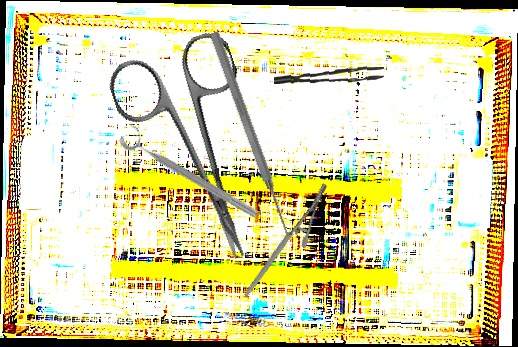Fixation Ring: (116, 121, 266, 223)
Iris Scissors: (102, 27, 296, 281)
Needle Holder: (217, 181, 354, 298)
Pusher: (207, 30, 295, 240)
Tissue Forceps: (273, 61, 385, 90)
